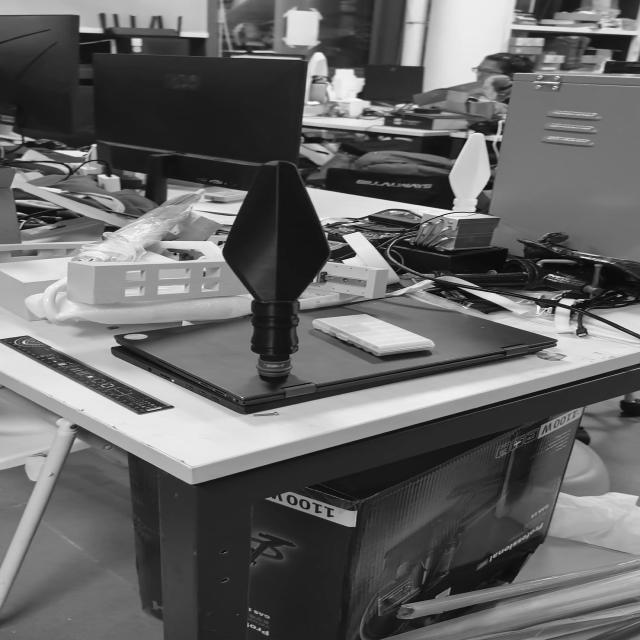base: (254, 356, 293, 376)
